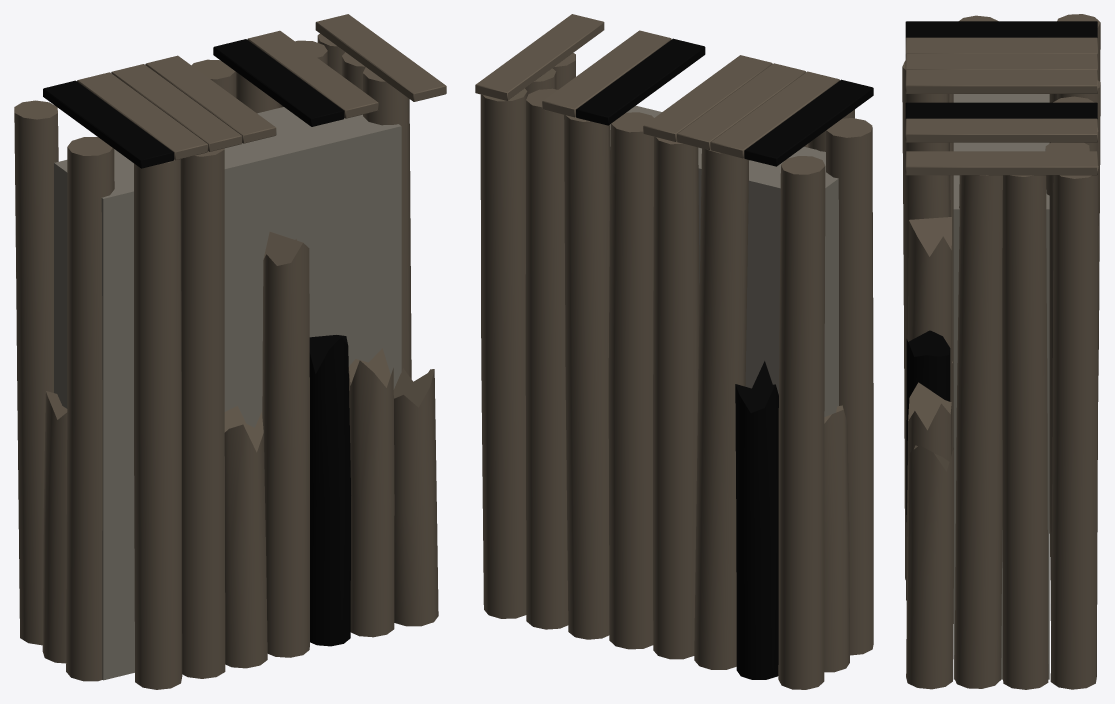
The model's file is festung_holz_2m_kaputt.glb.
3 renders of one model, left to right at view 1: azimuth 30°, elevation 25°; view 2: azimuth 150°, elevation 25°; view 3: azimuth 270°, elevation 25°, orthographic. The views are drawn at different scales.
Visible parts, largest first — view 1: festung_holz_2m_kaputt; view 2: festung_holz_2m_kaputt; view 3: festung_holz_2m_kaputt.
Part boxes in pixels (box(x1,y1,x2,y2)): festung_holz_2m_kaputt: box(14, 14, 446, 689); festung_holz_2m_kaputt: box(475, 14, 873, 689); festung_holz_2m_kaputt: box(902, 14, 1100, 689).
Bounding box in the file's own units: 2.02 × 3.01 × 1.03.
